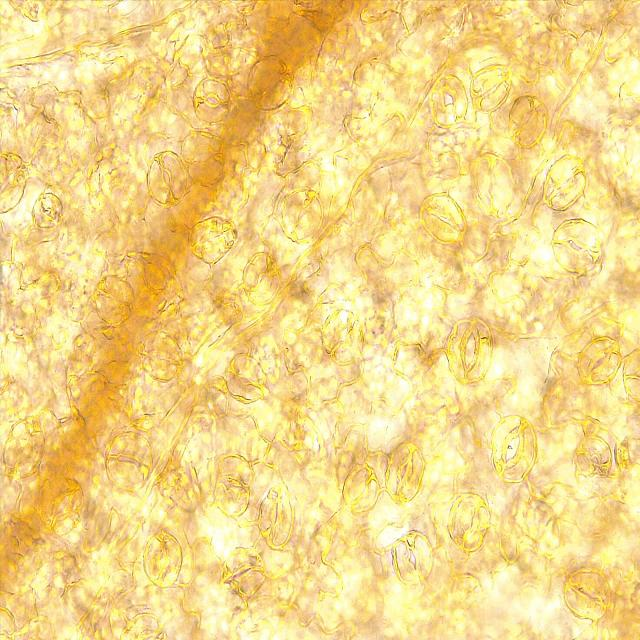Stomata: (488, 412, 540, 487), (444, 315, 495, 387), (469, 152, 518, 220), (104, 430, 156, 494), (36, 473, 86, 537), (1, 413, 47, 482), (551, 217, 604, 275), (418, 189, 469, 247), (446, 491, 492, 555), (542, 151, 588, 215), (255, 481, 296, 552), (246, 55, 295, 114), (135, 329, 186, 385), (384, 440, 427, 506), (390, 528, 437, 588), (279, 185, 326, 245), (319, 306, 366, 366), (562, 568, 614, 622), (145, 149, 190, 209), (576, 334, 622, 392), (187, 215, 240, 265), (468, 62, 517, 115), (215, 453, 254, 519), (142, 530, 184, 590), (507, 93, 550, 151), (222, 546, 268, 600), (240, 250, 282, 307), (93, 274, 137, 328), (225, 352, 268, 406), (429, 72, 470, 128), (191, 76, 233, 126), (340, 465, 380, 515), (0, 150, 26, 219), (574, 435, 614, 478), (28, 191, 65, 233), (118, 610, 168, 640)
